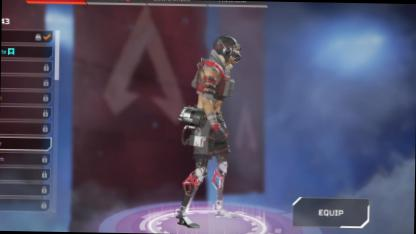Target: (176, 35, 244, 191)
